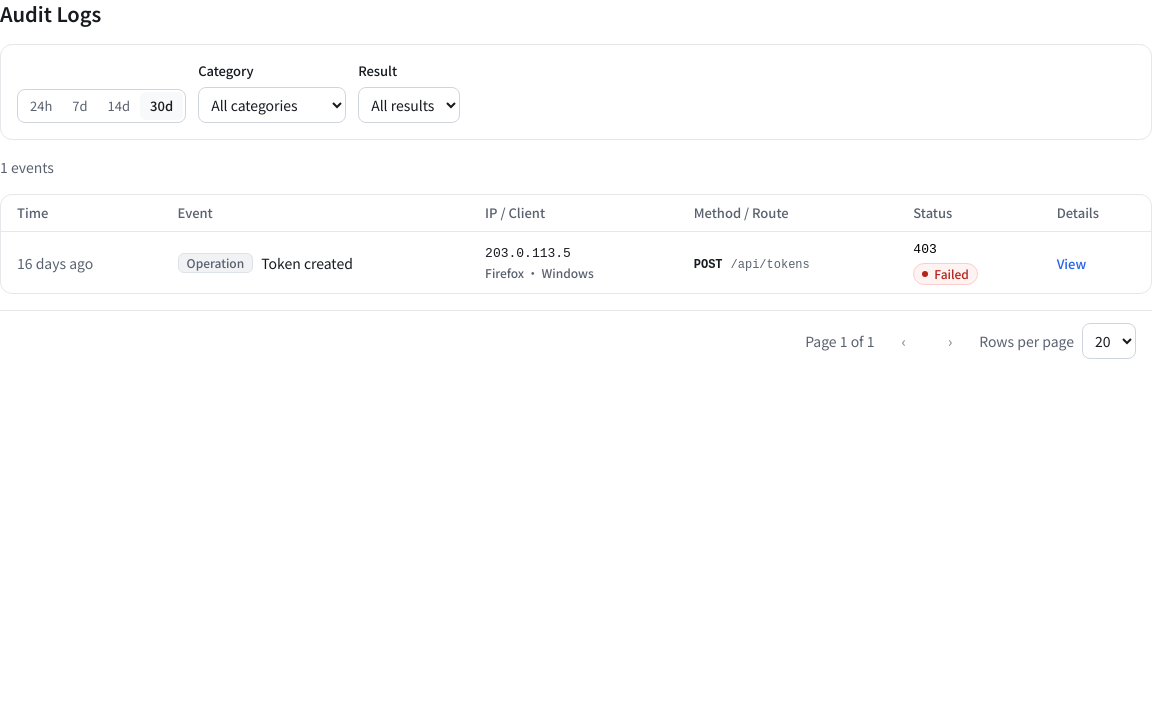
audit logs page › opens a category-specific detail dialog with a safe before/after diff
This screenshot has width=1152, height=720.
Expected: the text "Token created" is shown, [261,252,353,274]
Click the button "View" at (1071, 264), box [1057,254,1086,274]
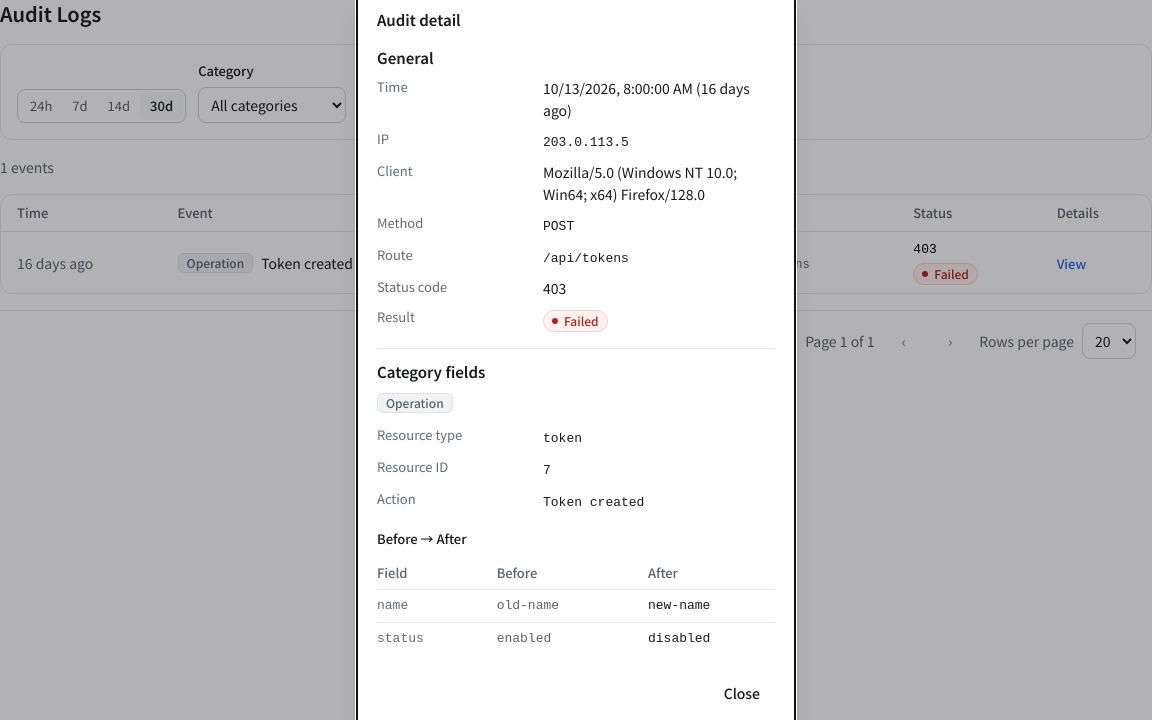
Expected: the heading "Audit detail" is shown, [377,9,461,31]
Expected: the heading "General" is shown, [377,47,434,68]
Expected: the heading "Category fields" is shown, [377,361,485,382]
